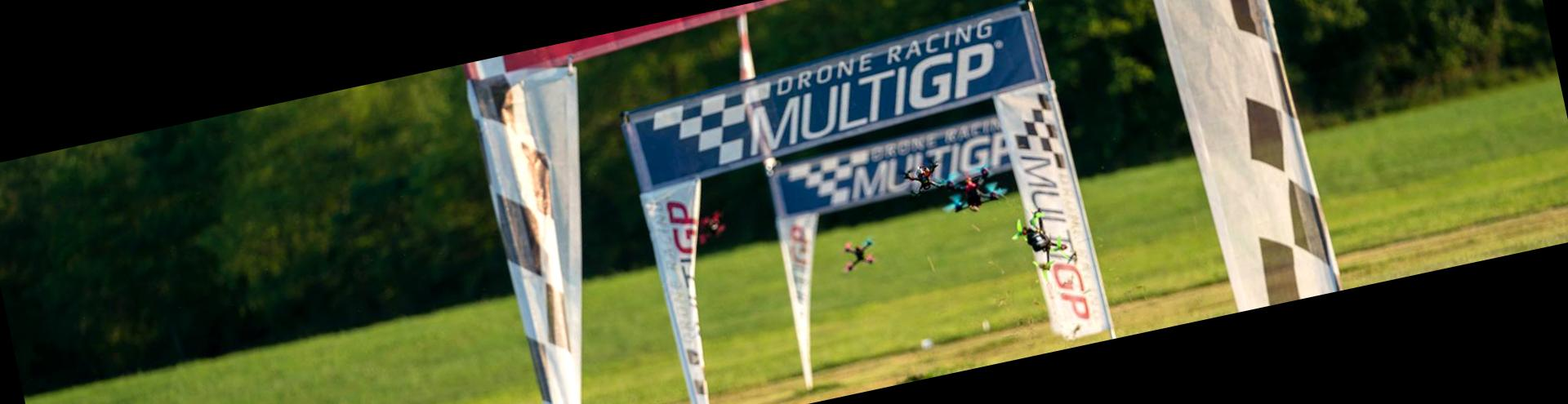drone: (1001, 203, 1080, 271), (933, 162, 1022, 217), (829, 227, 888, 281), (684, 207, 733, 246), (900, 157, 942, 193)
